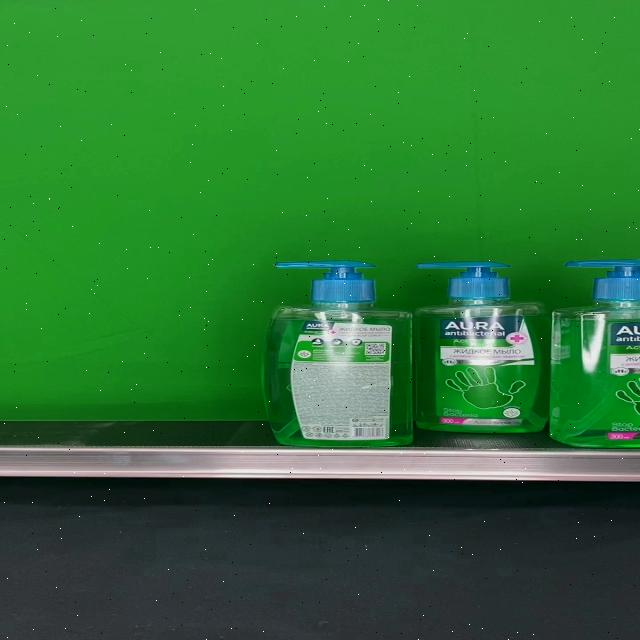Bottle: (262, 260, 413, 448), (414, 260, 552, 432)
Cap: (277, 260, 375, 304), (414, 260, 512, 300)
